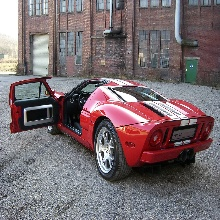no damage: (9, 74, 215, 182)
